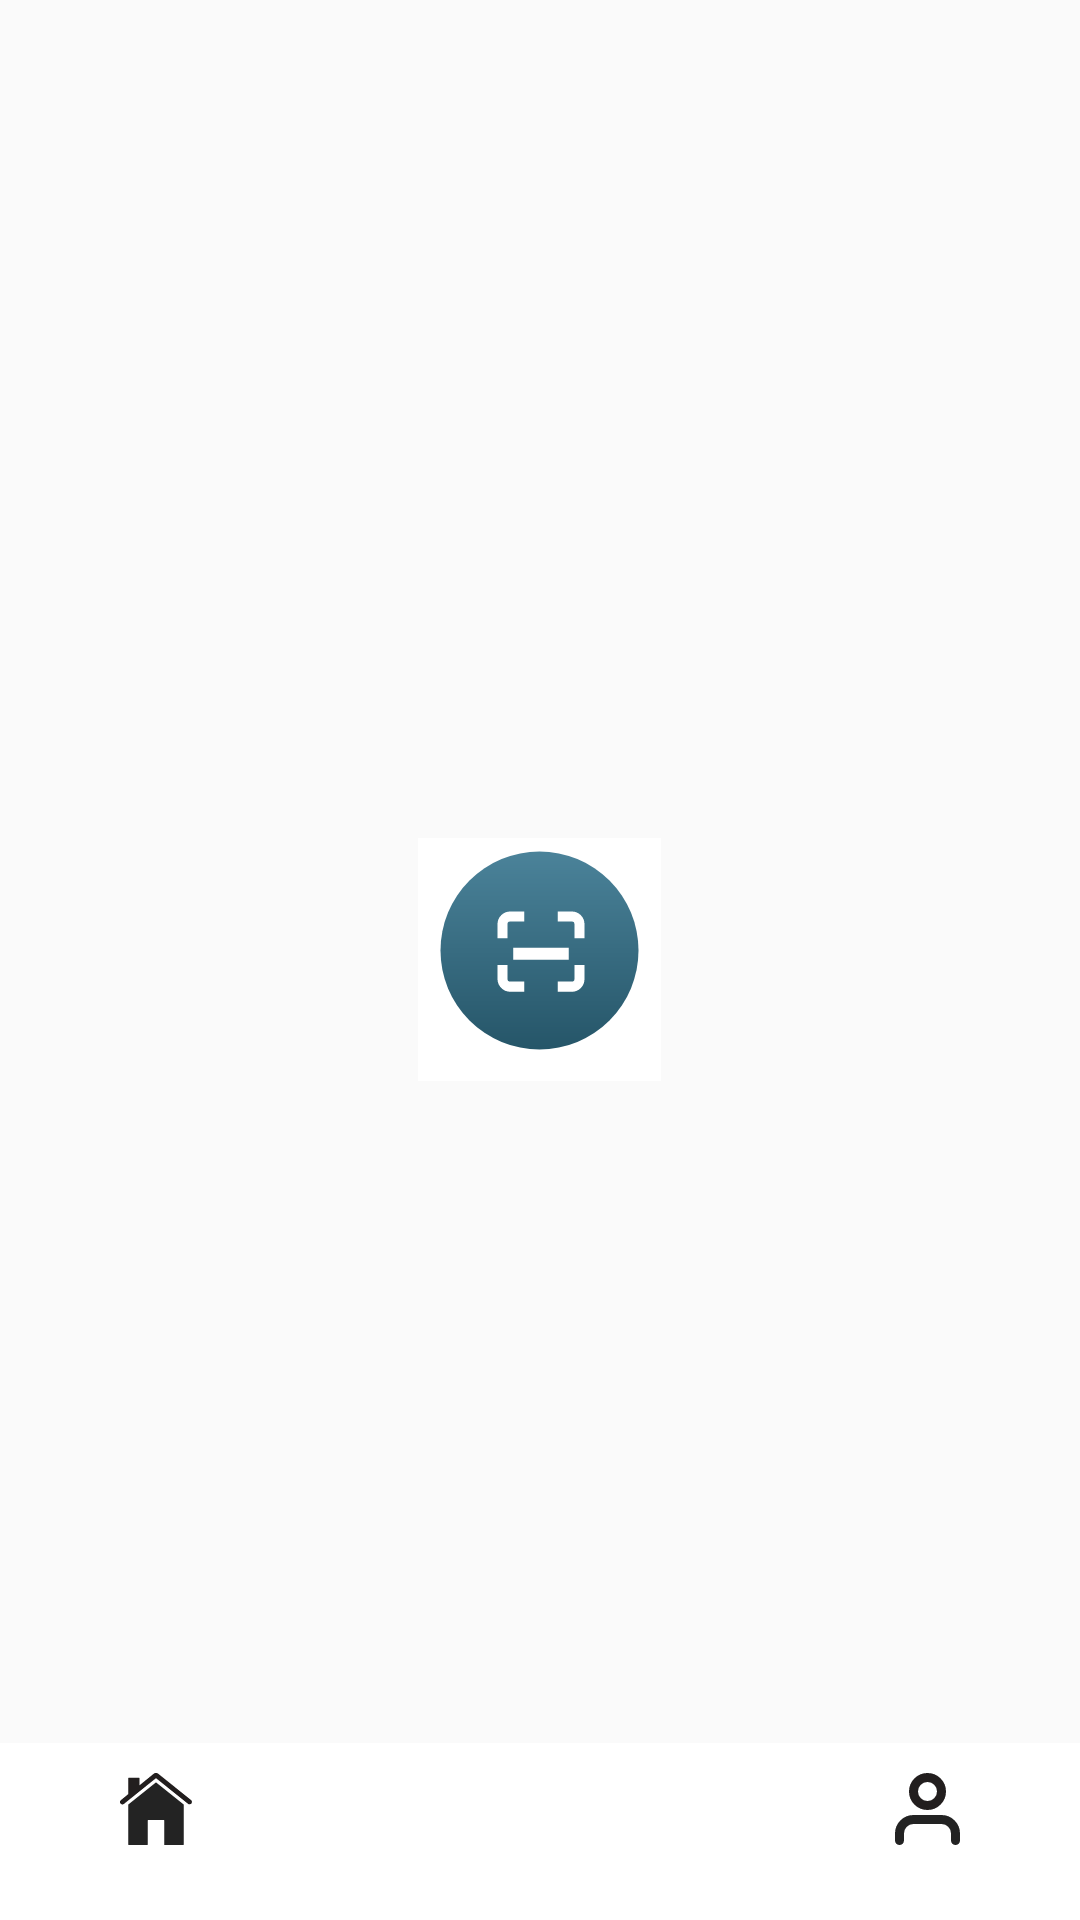

Icons on this 1080x1920 Android screen, each with its box as (x1, y1, x2, y2):
home: (120, 1773, 192, 1845)
scan home: (440, 851, 639, 1050)
user profile: (895, 1773, 960, 1845)
